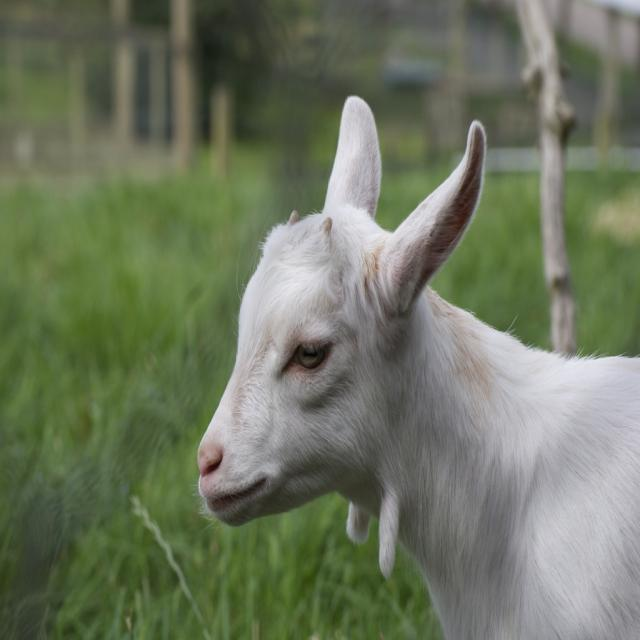Goat: (198, 96, 640, 640)
